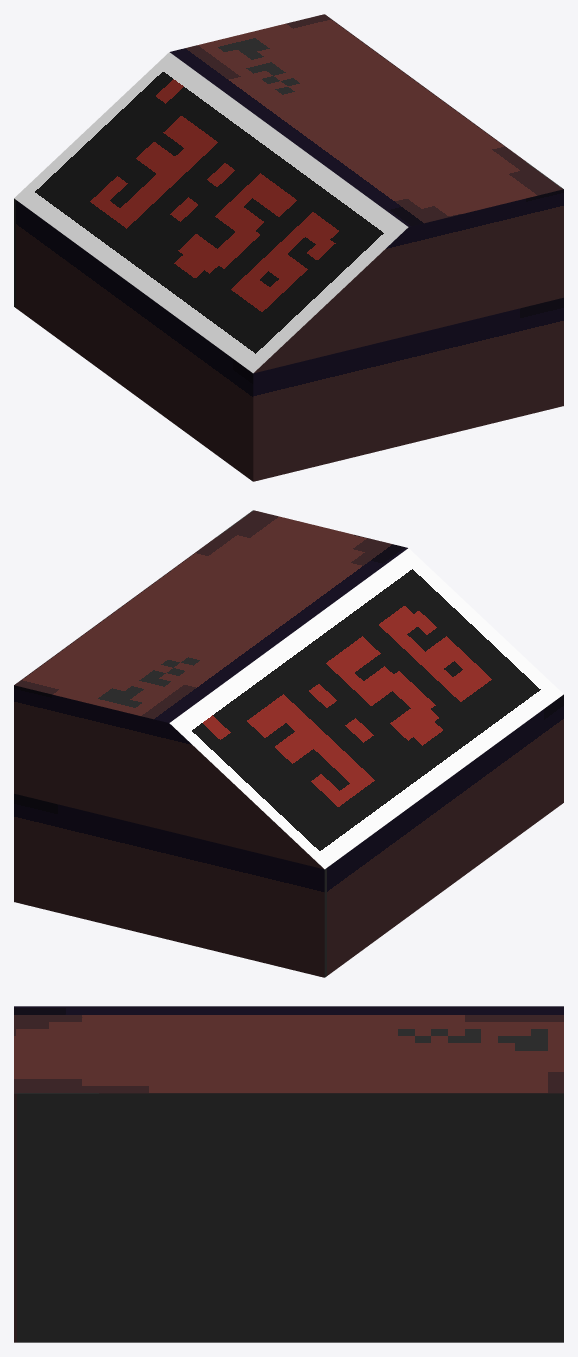
The model's file is alarmclock.glb.
3 views of the same model, one above another, from view 1: azimuth 30°, elevation 25°; view 2: azimuth 150°, elevation 25°; view 3: azimuth 270°, elevation 25° (orthographic). The views are drawn at different scales.
Visible parts, largest first — view 1: Cube.001; view 2: Cube.001; view 3: Cube.001.
Boxes of the visible parts, x1,y1,x2,y2 form: Cube.001: (14,14,563,481); Cube.001: (14,510,563,977); Cube.001: (14,1006,563,1342).
Size of the model in its own units: 0.375 by 0.25 by 0.5.
Materials: 1 (1 with a texture image).
